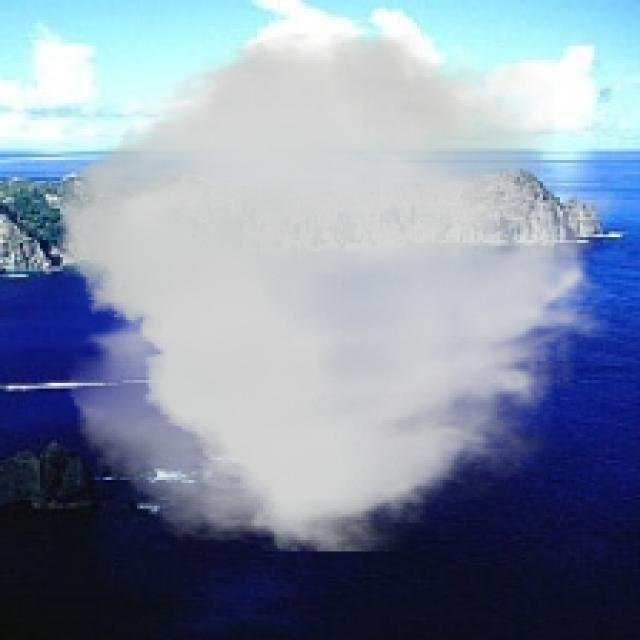Smoke: (57, 26, 626, 552)
